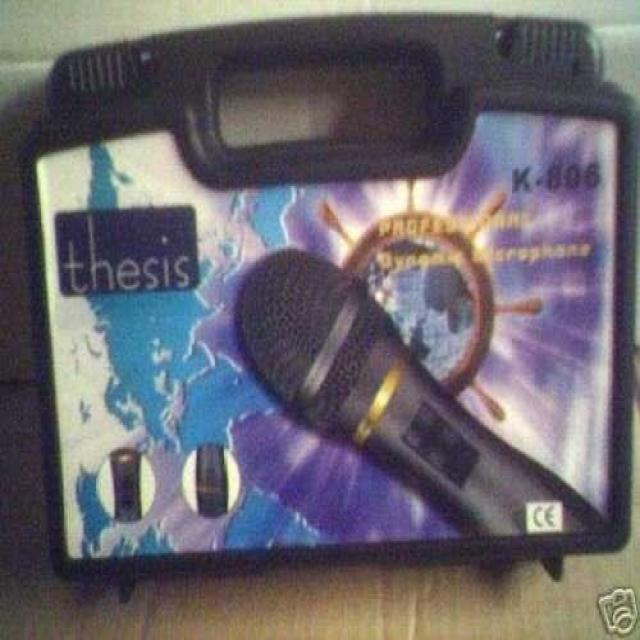microphone: (234, 244, 606, 546)
